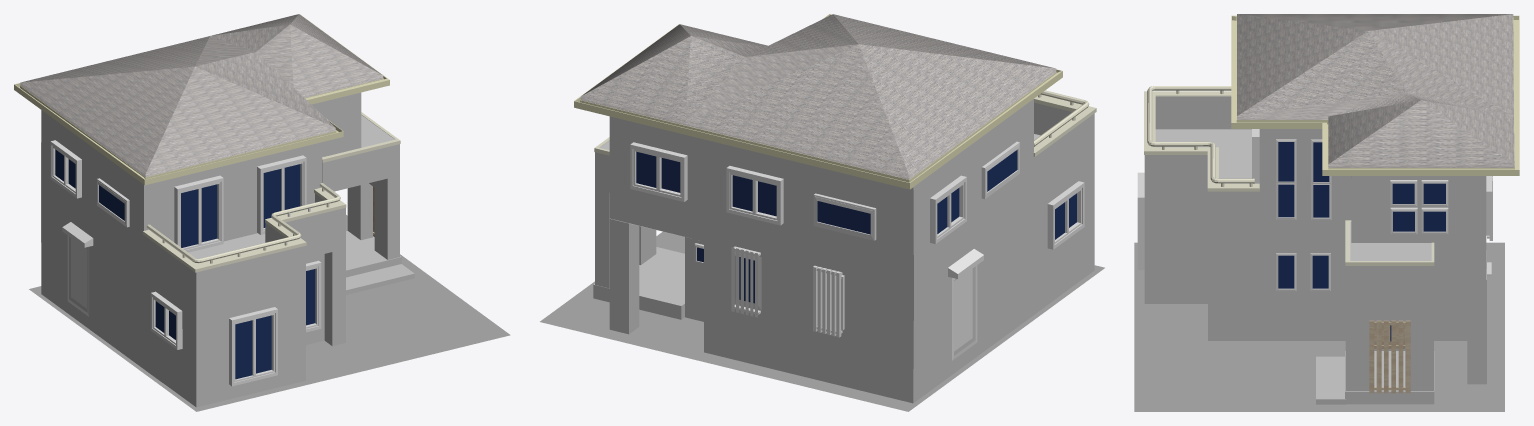
The model's file is house006_middle.fbx.
3 views of the same model, side by side, from view 1: azimuth 30°, elevation 25°; view 2: azimuth 150°, elevation 25°; view 3: azimuth 270°, elevation 25° (orthographic). The views are drawn at different scales.
Parts seen in each view (by area): view 1: pPlane2; view 2: pPlane2; view 3: pPlane2.
Part boxes in pixels (x1,y1,x2,y2): pPlane2: (14,14,510,411); pPlane2: (540,14,1104,411); pPlane2: (1134,14,1519,411).
Bounding box in the file's own units: 22.44 × 16.27 × 21.04.
